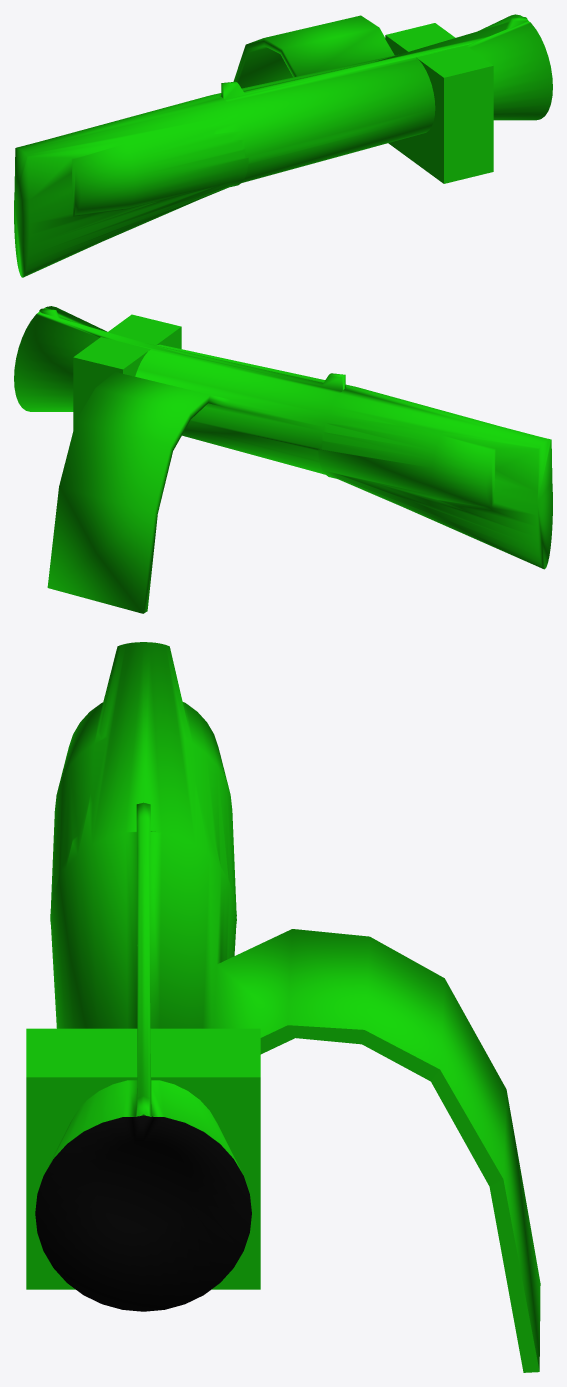
The model's file is mgun.fbx.
3 renders of one model, top to bottom at view 1: azimuth 30°, elevation 25°; view 2: azimuth 150°, elevation 25°; view 3: azimuth 270°, elevation 25°, orthographic. The views are drawn at different scales.
Visible parts, largest first — view 1: Cylinder; view 2: Cylinder; view 3: Cylinder.
Boxes of the visible parts, x1,y1,x2,y2 form: Cylinder: [14, 14, 552, 277]; Cylinder: [14, 306, 552, 613]; Cylinder: [26, 642, 540, 1372].
Size of the model in its own units: 1526 by 553 by 673.
